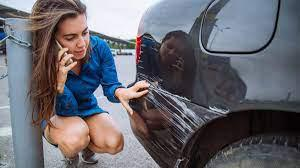rear-bumper-dent: (114, 78, 226, 167)
